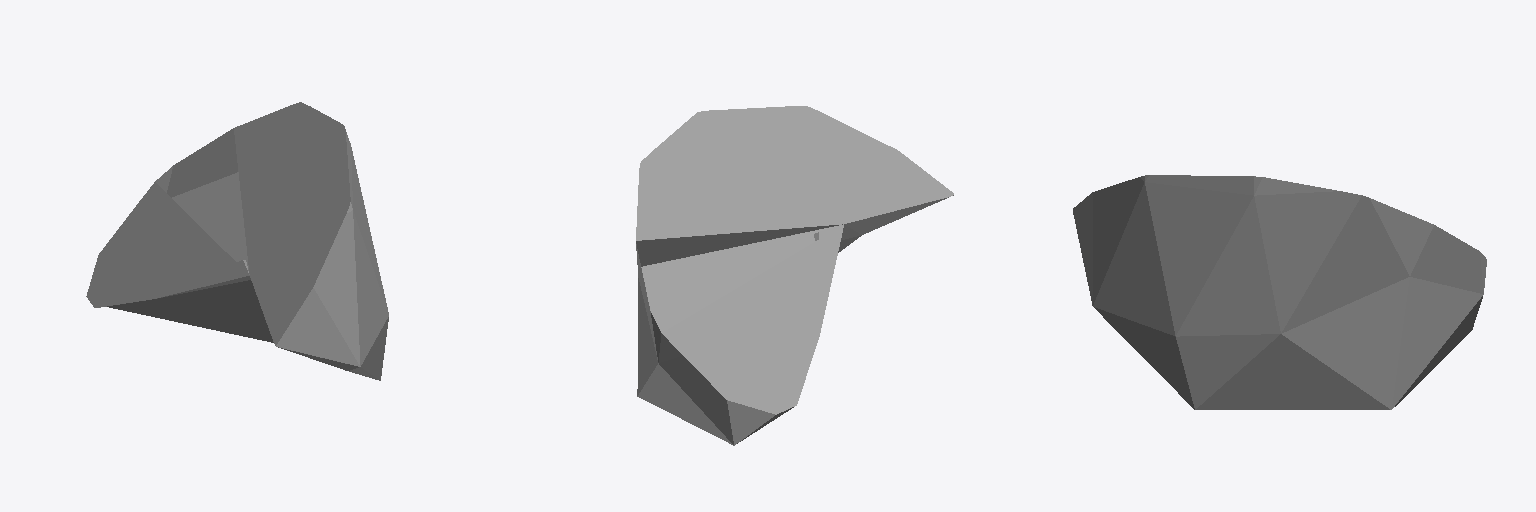
The model's file is InferiorLob.obj.
3 renders of one model, left to right at view 1: azimuth 30°, elevation 25°; view 2: azimuth 150°, elevation 25°; view 3: azimuth 270°, elevation 25°, orthographic.
Parts seen in each view (by area): view 1: LungLeftLow_Icosphere.003; view 2: LungLeftLow_Icosphere.003; view 3: LungLeftLow_Icosphere.003.
Part boxes in pixels (x1,y1,x2,y2): LungLeftLow_Icosphere.003: (86,102,388,380); LungLeftLow_Icosphere.003: (636,106,953,445); LungLeftLow_Icosphere.003: (1073,175,1486,409).
Bounding box in the file's own units: 0.1946 × 0.2302 × 0.3669.